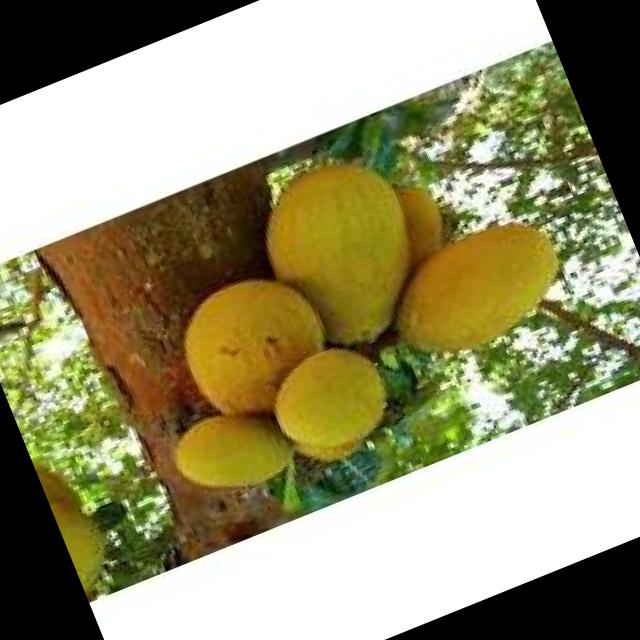Fruit: (211, 119, 473, 394), (362, 188, 590, 385), (246, 319, 414, 486), (22, 420, 130, 598)
